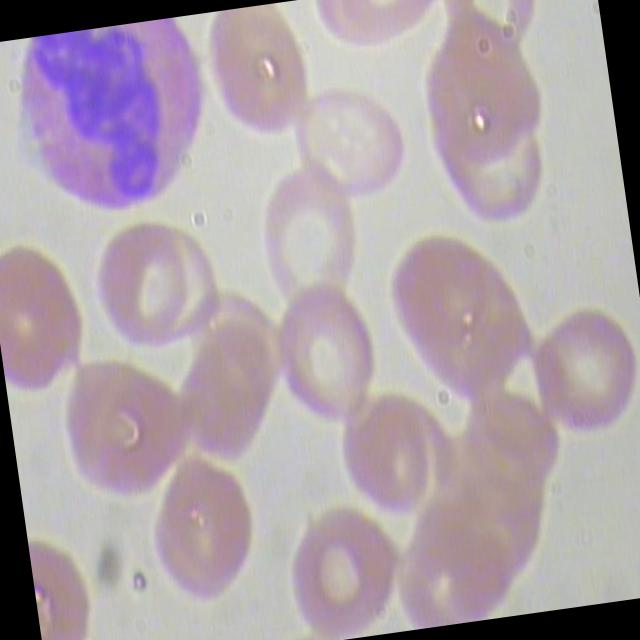RBC: (380, 218, 543, 420), (51, 338, 208, 512), (248, 155, 377, 331), (138, 450, 272, 614), (192, 0, 330, 155), (268, 278, 394, 432), (330, 386, 458, 536), (282, 496, 409, 640), (288, 82, 422, 218), (525, 301, 640, 452), (86, 216, 202, 360), (0, 239, 97, 394)
WBC: (0, 13, 234, 227)
